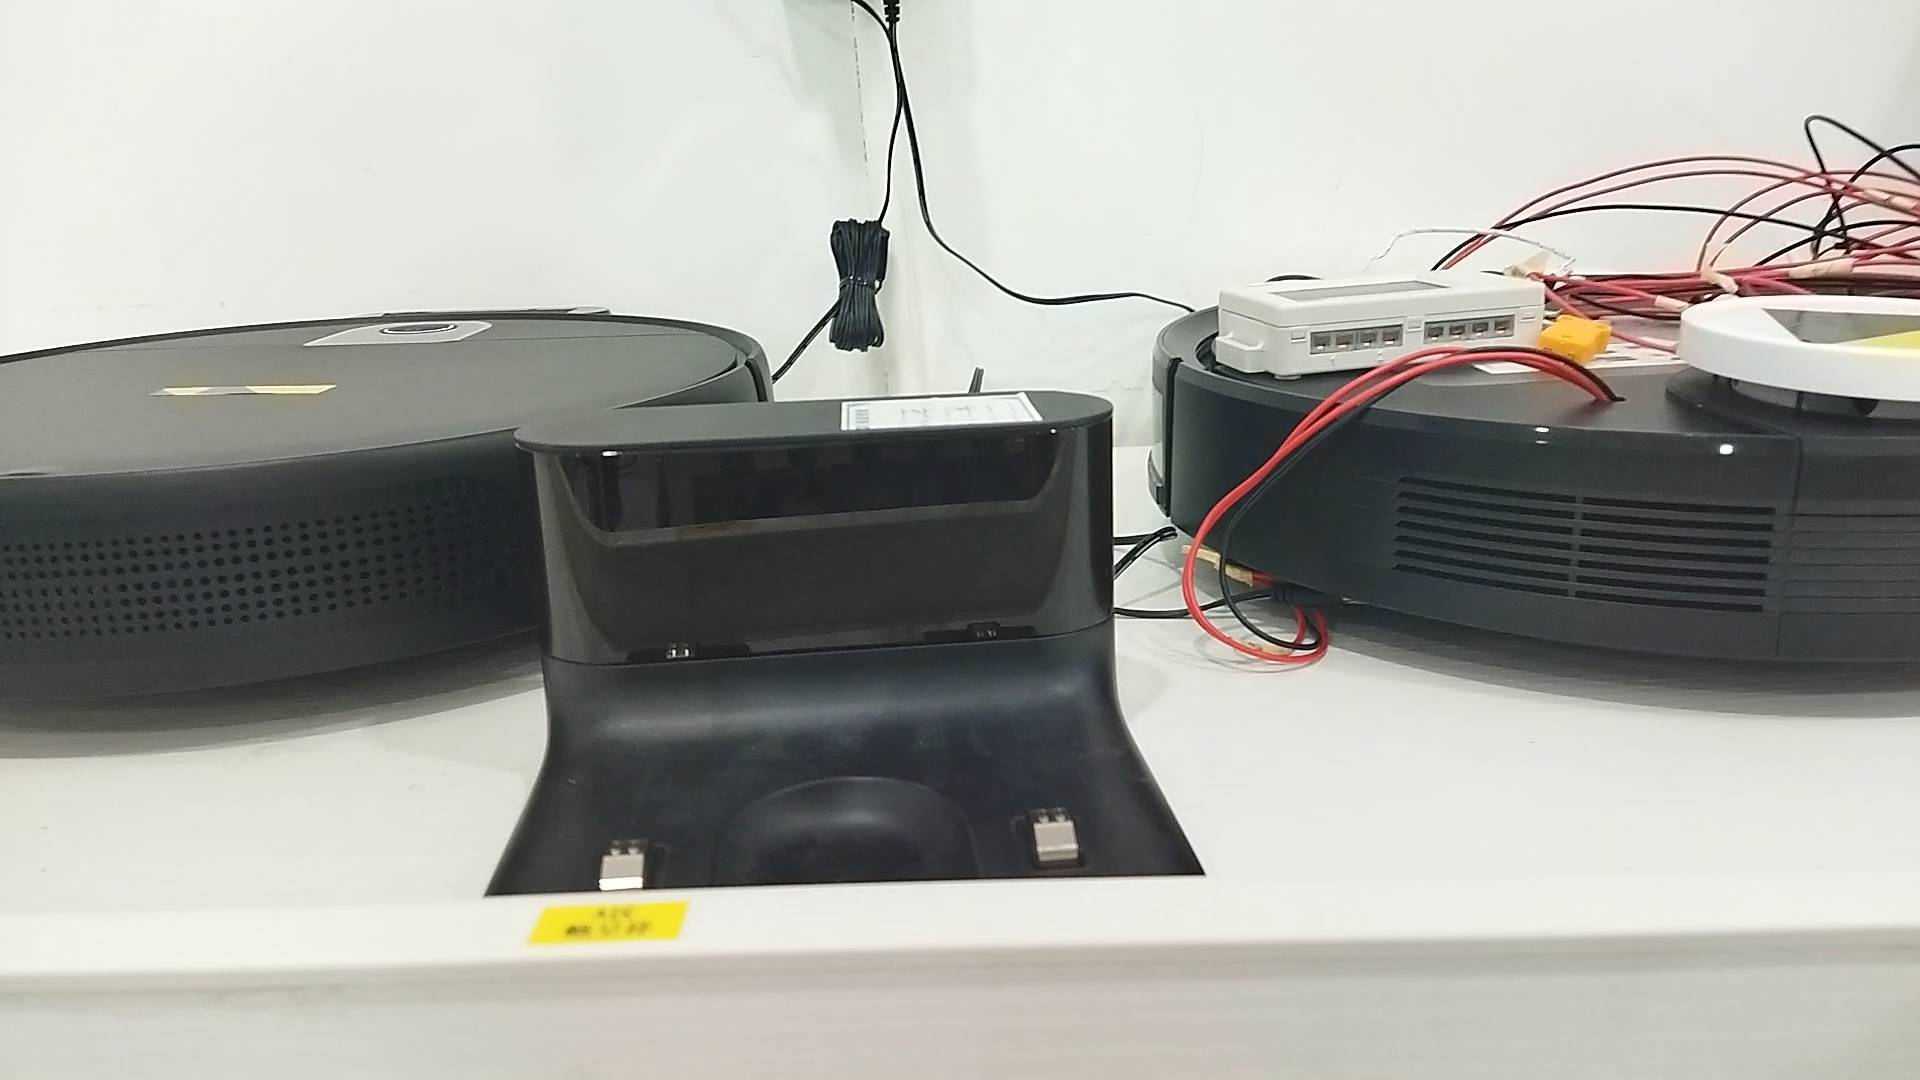recharge seat: (464, 388, 1215, 894)
